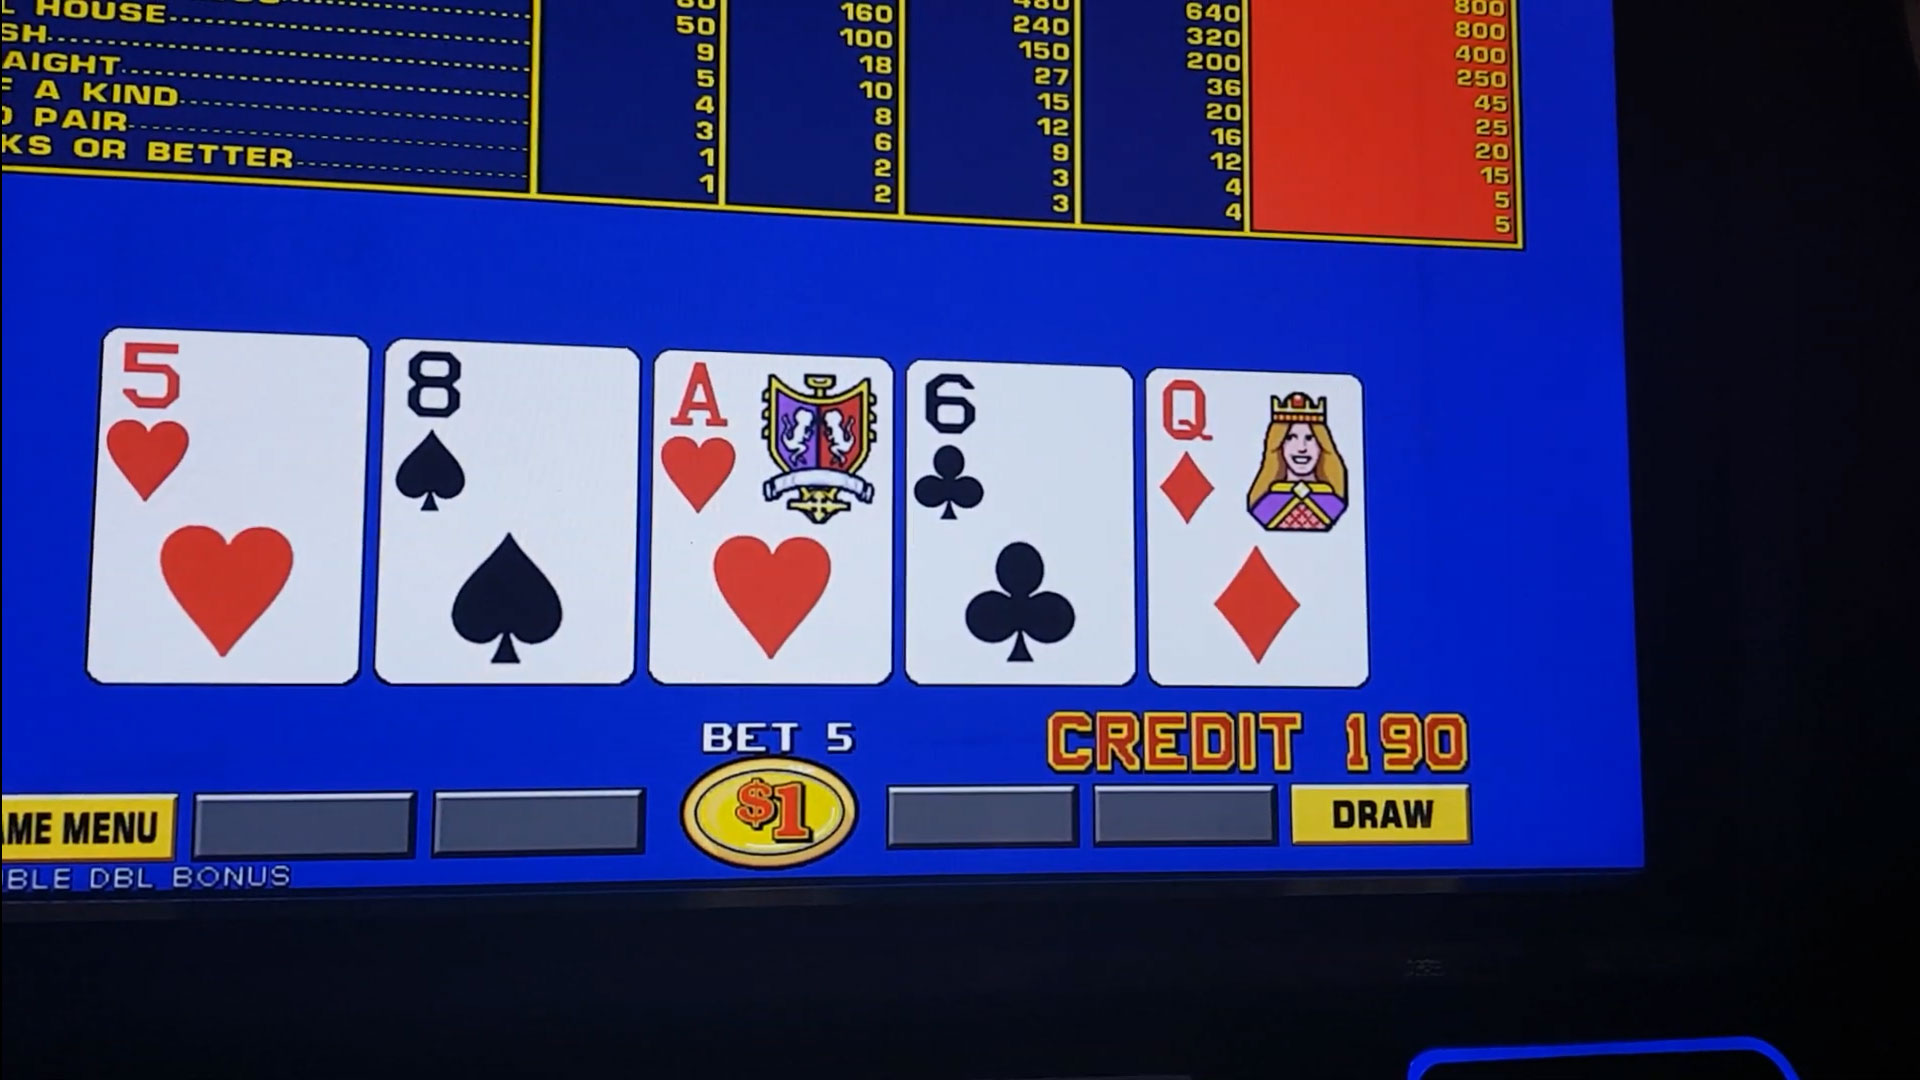C6: (910, 368, 1130, 526)
DQ: (1149, 378, 1360, 526)
H5: (113, 335, 367, 512)
HA: (659, 361, 882, 518)
S8: (394, 349, 638, 517)
